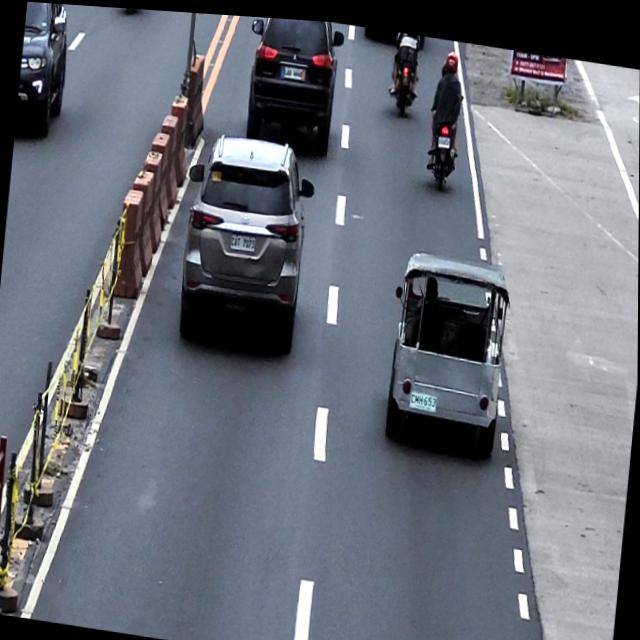Car: (174, 124, 318, 353), (381, 241, 514, 452), (239, 13, 344, 152), (14, 1, 73, 138)
License-Plate: (408, 384, 437, 408), (229, 228, 257, 251), (282, 59, 303, 76), (437, 128, 451, 142)
Motorcycle: (424, 85, 463, 186), (386, 29, 422, 113)
